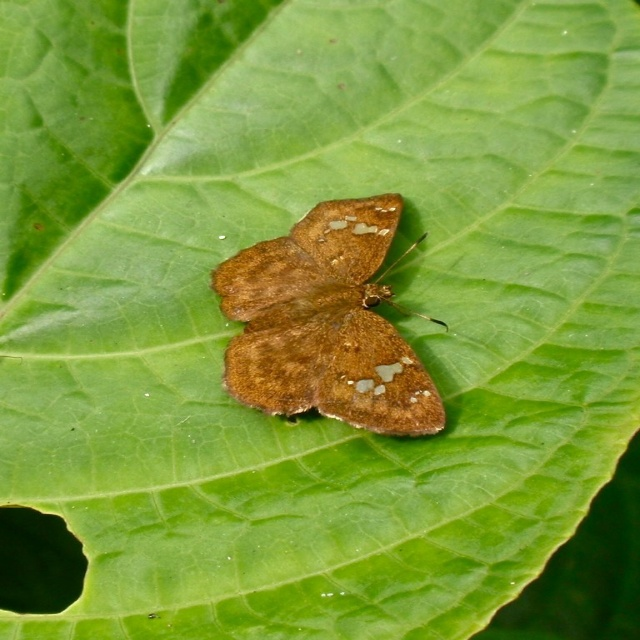Butterfly: (203, 184, 451, 440)
